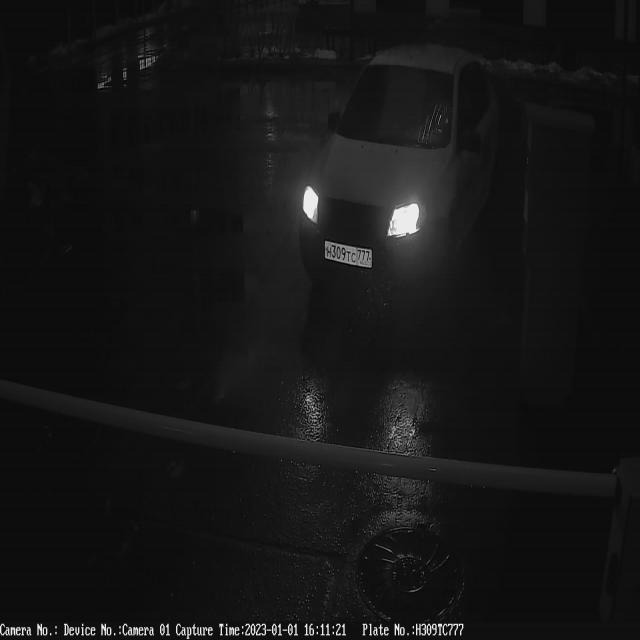car-plate-numbers: (324, 240, 375, 274)
